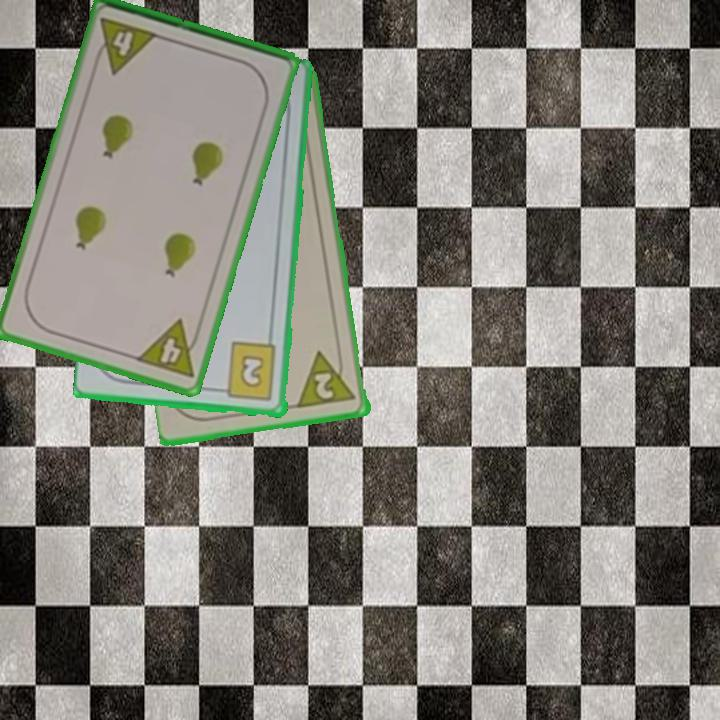2b: (215, 340, 279, 404)
2p: (311, 369, 338, 403)
4p: (132, 316, 205, 382), (90, 14, 161, 77)
